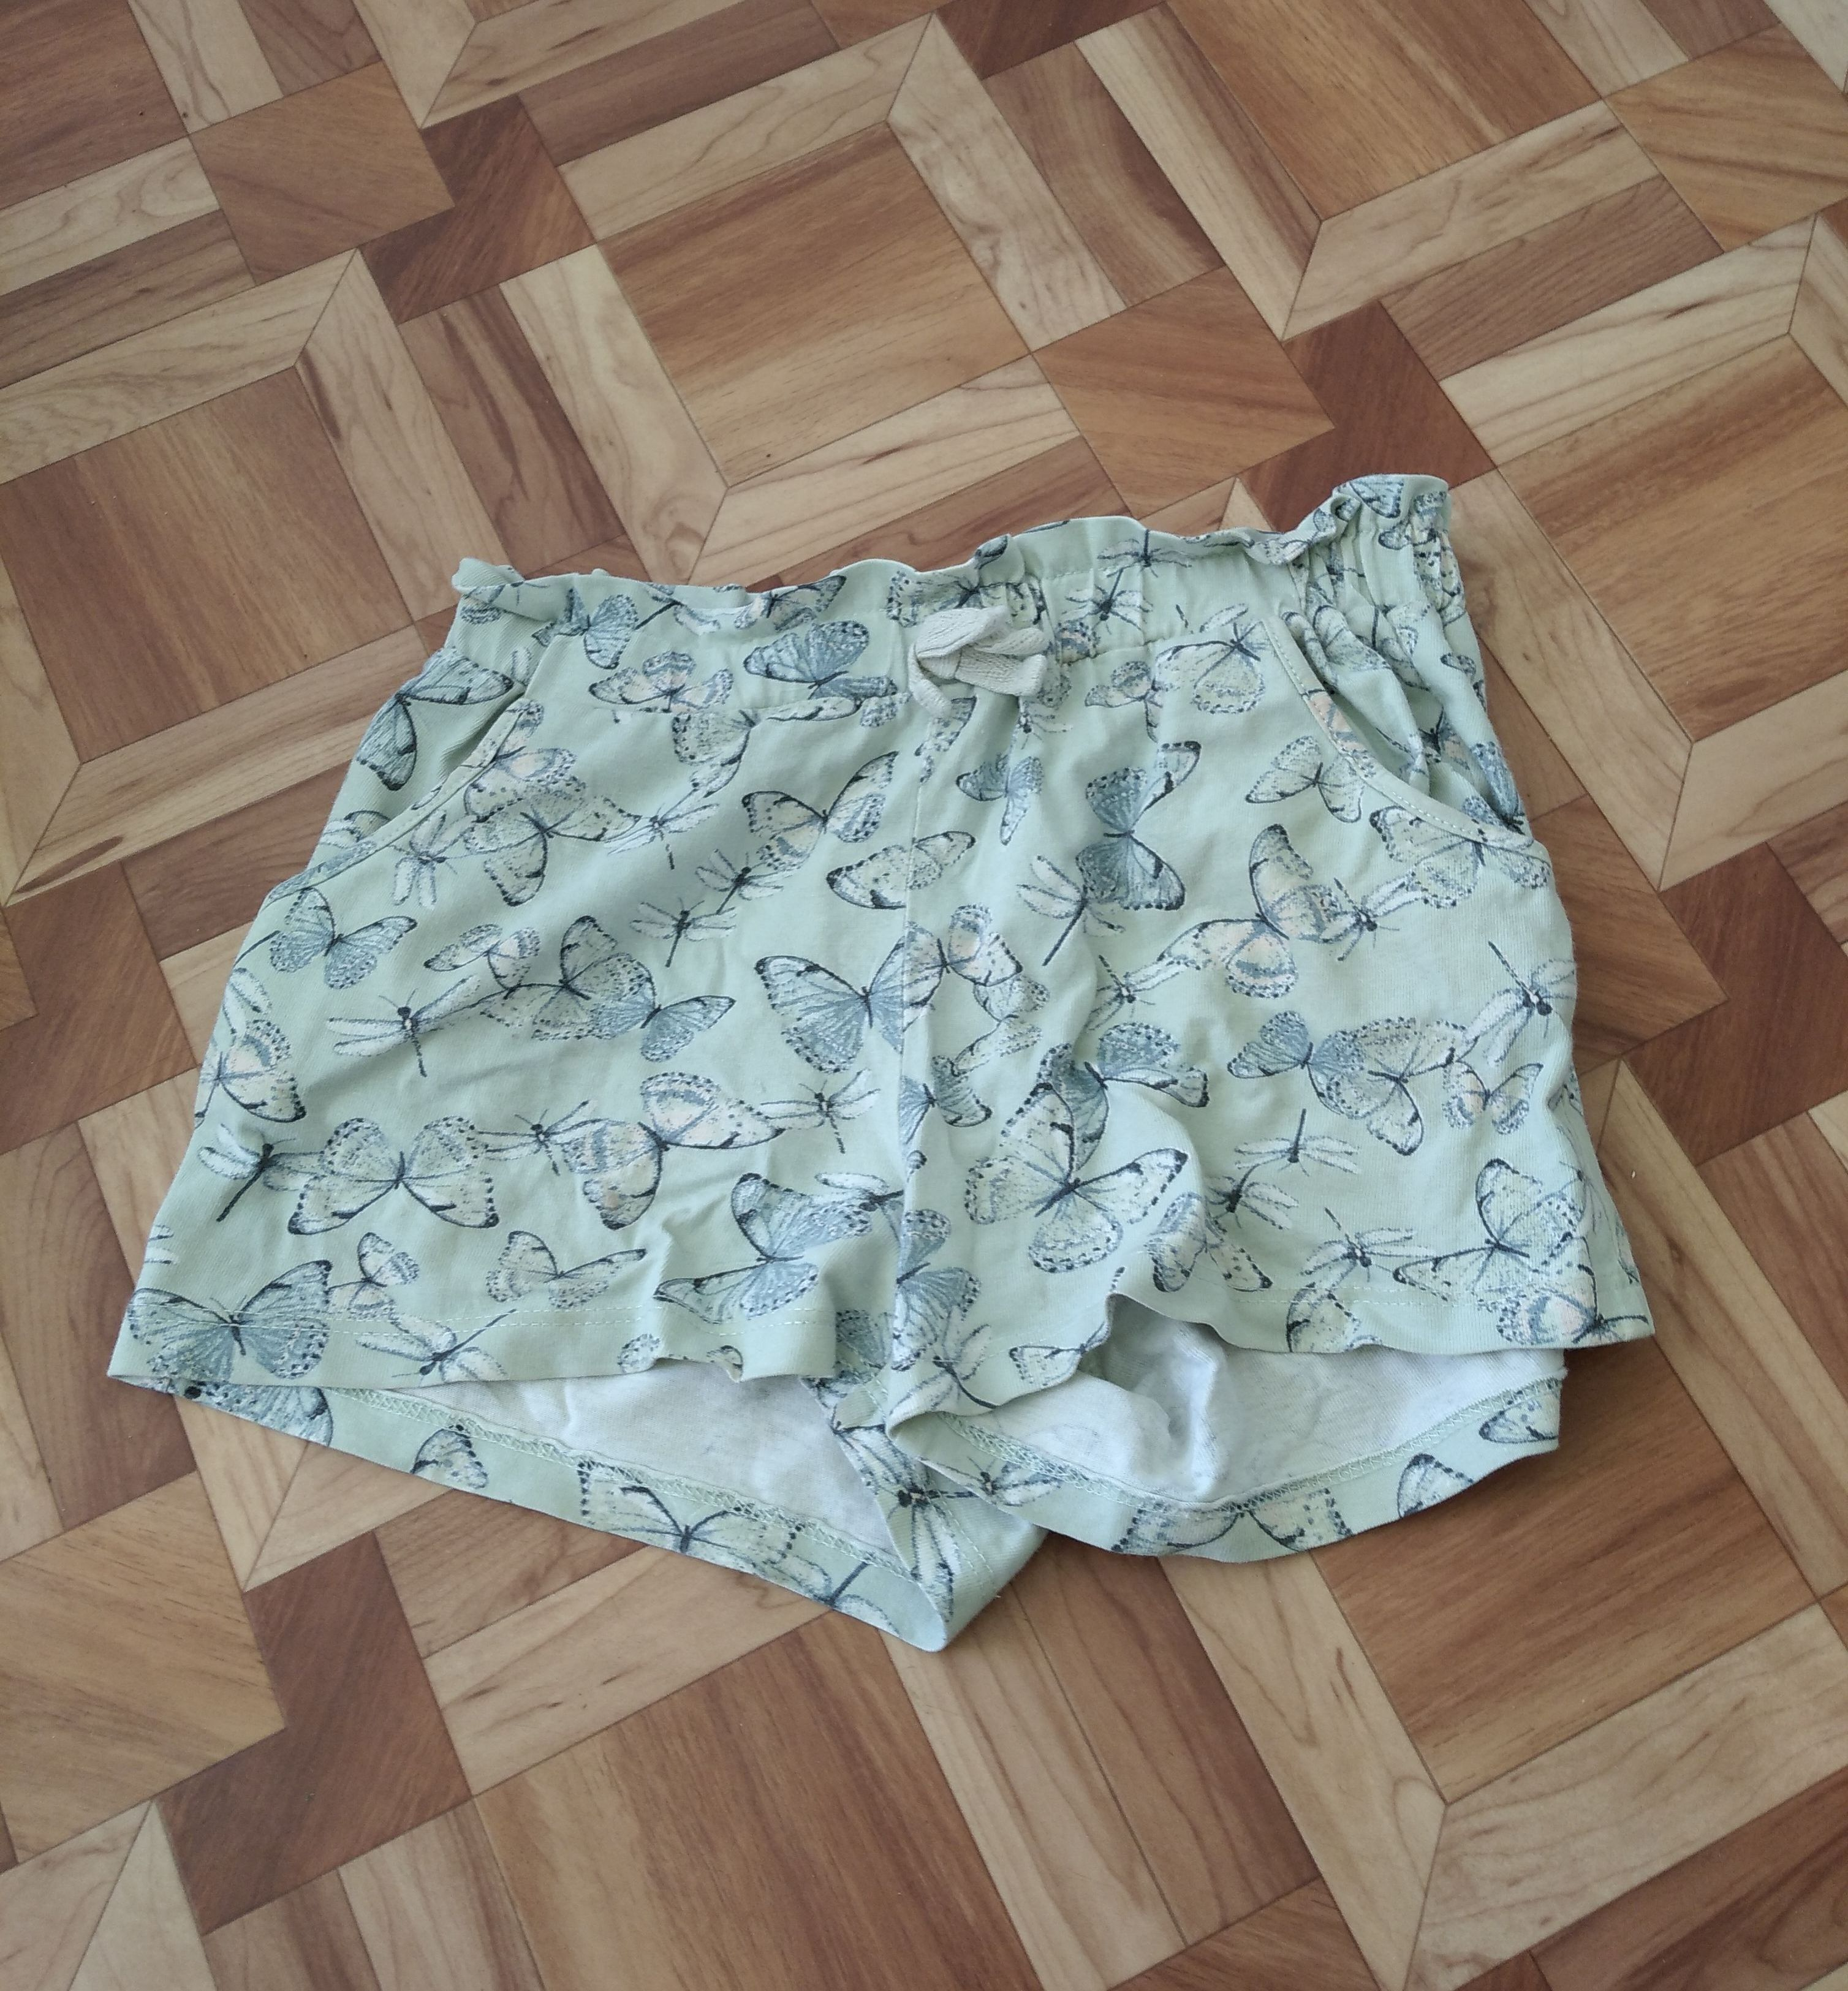clothes: (89, 469, 1681, 1613)
